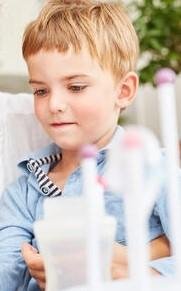Healthy: (17, 4, 150, 159)
